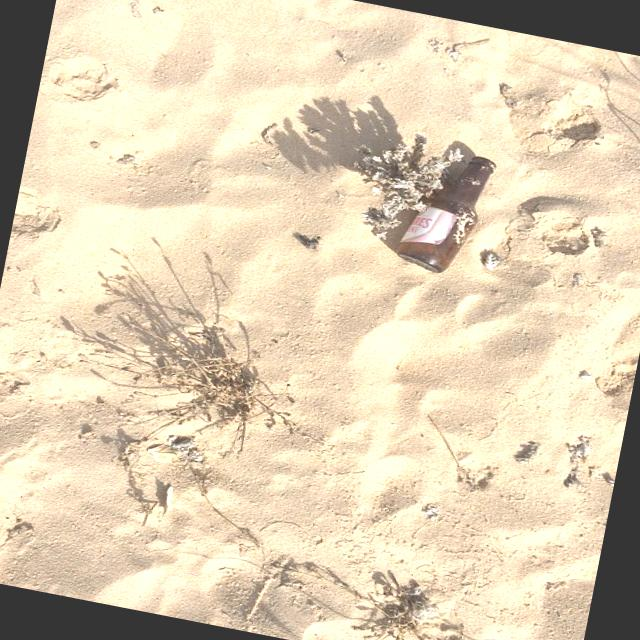Recycle: (391, 142, 503, 282)
